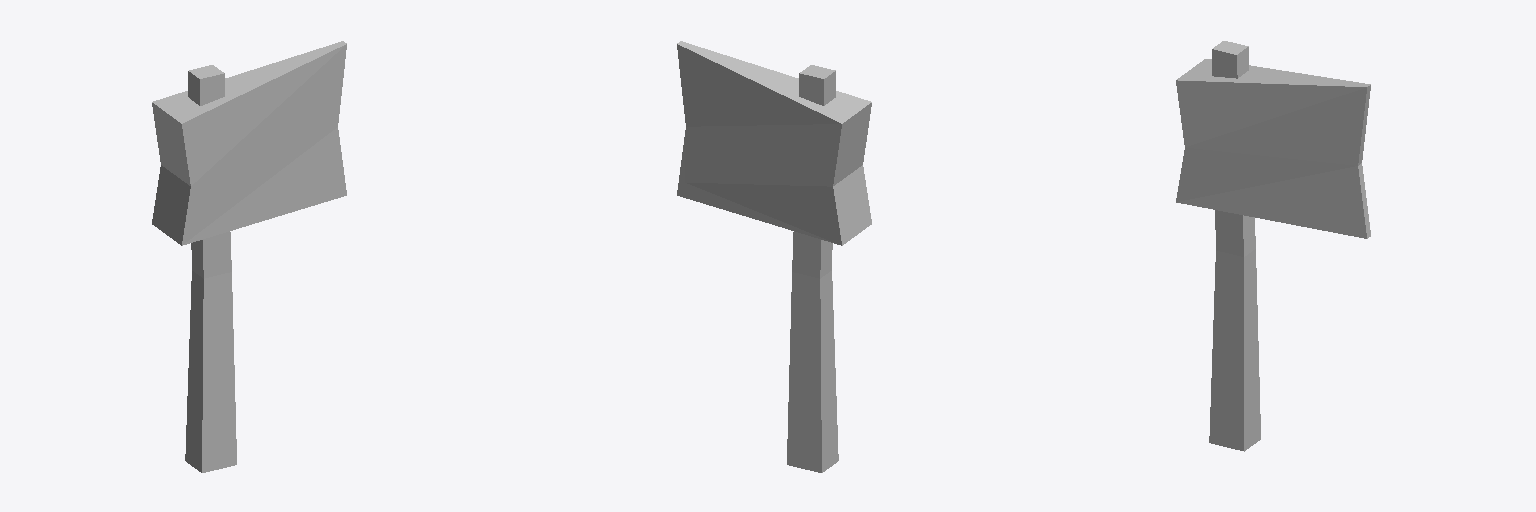
The model's file is Axe.obj.
3 views of the same model, side by side, from view 1: azimuth 30°, elevation 25°; view 2: azimuth 150°, elevation 25°; view 3: azimuth 330°, elevation 25° (orthographic).
Parts seen in each view (by area): view 1: WoodenFence:WoodenFence:WoodenFence:WoodenFence:pCube12; view 2: WoodenFence:WoodenFence:WoodenFence:WoodenFence:pCube12; view 3: WoodenFence:WoodenFence:WoodenFence:WoodenFence:pCube12.
Boxes of the visible parts, x1=… form: WoodenFence:WoodenFence:WoodenFence:WoodenFence:pCube12: x1=152, y1=41, x2=346, y2=472; WoodenFence:WoodenFence:WoodenFence:WoodenFence:pCube12: x1=677, y1=41, x2=871, y2=472; WoodenFence:WoodenFence:WoodenFence:WoodenFence:pCube12: x1=1176, y1=41, x2=1370, y2=451.
Bounding box in the file's own units: 0.3549 × 0.7455 × 0.1033.